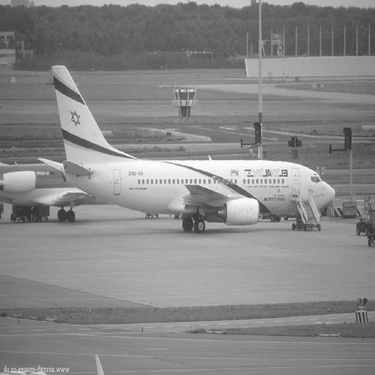airplane: (35, 53, 341, 231), (1, 149, 128, 218)
